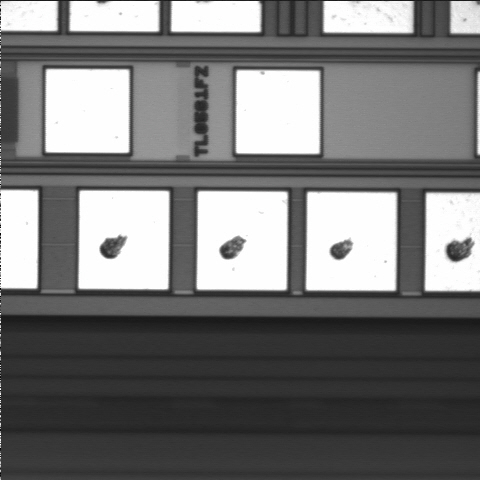pad: (197, 191, 287, 290), (79, 191, 169, 289), (306, 192, 396, 290), (236, 70, 320, 154), (46, 69, 129, 153)
